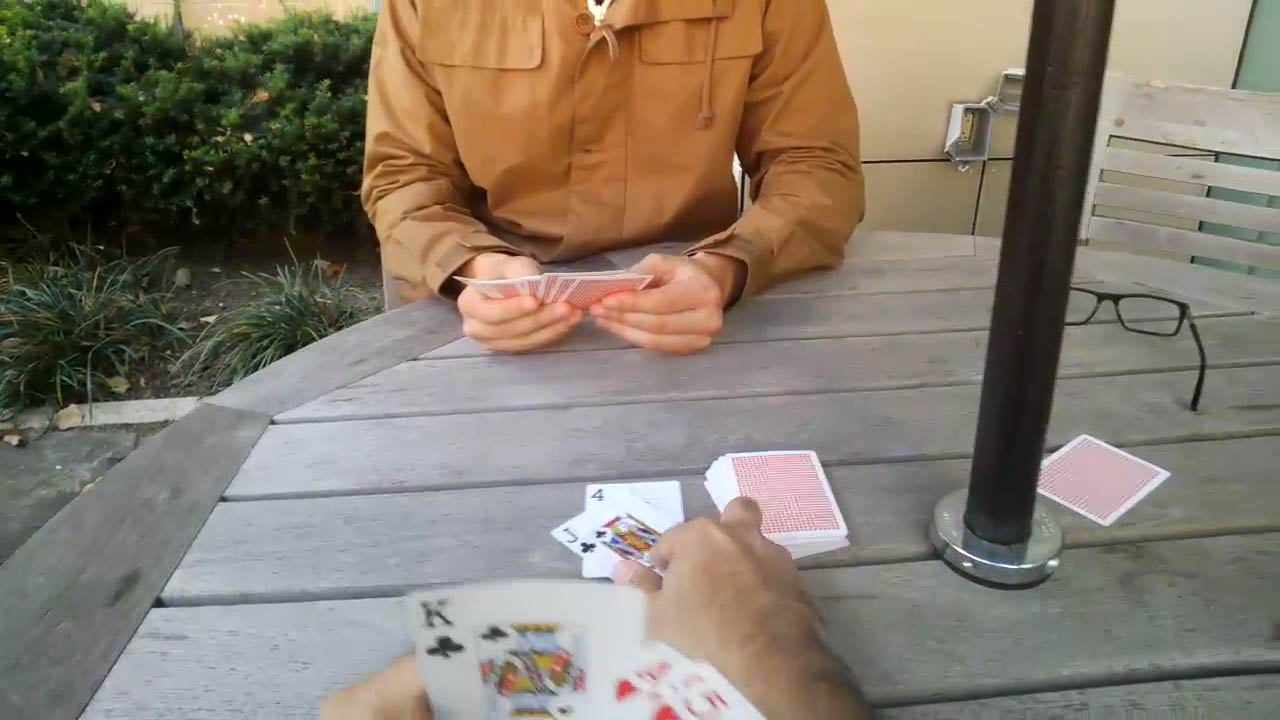hand: (615, 497, 876, 715), (592, 255, 720, 356), (455, 259, 584, 353), (313, 650, 437, 718)
